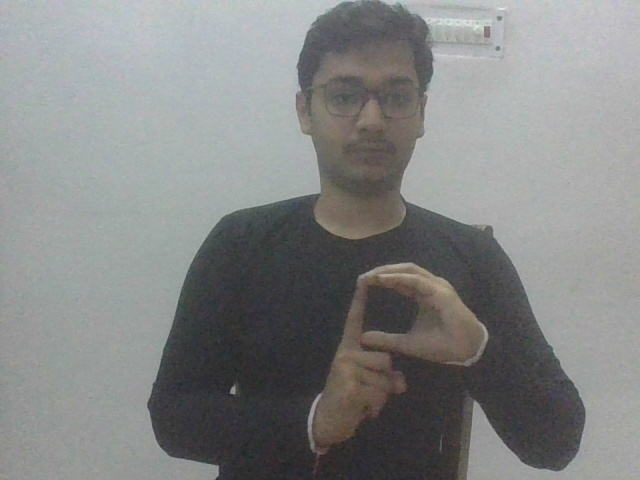D: (309, 258, 489, 452)
